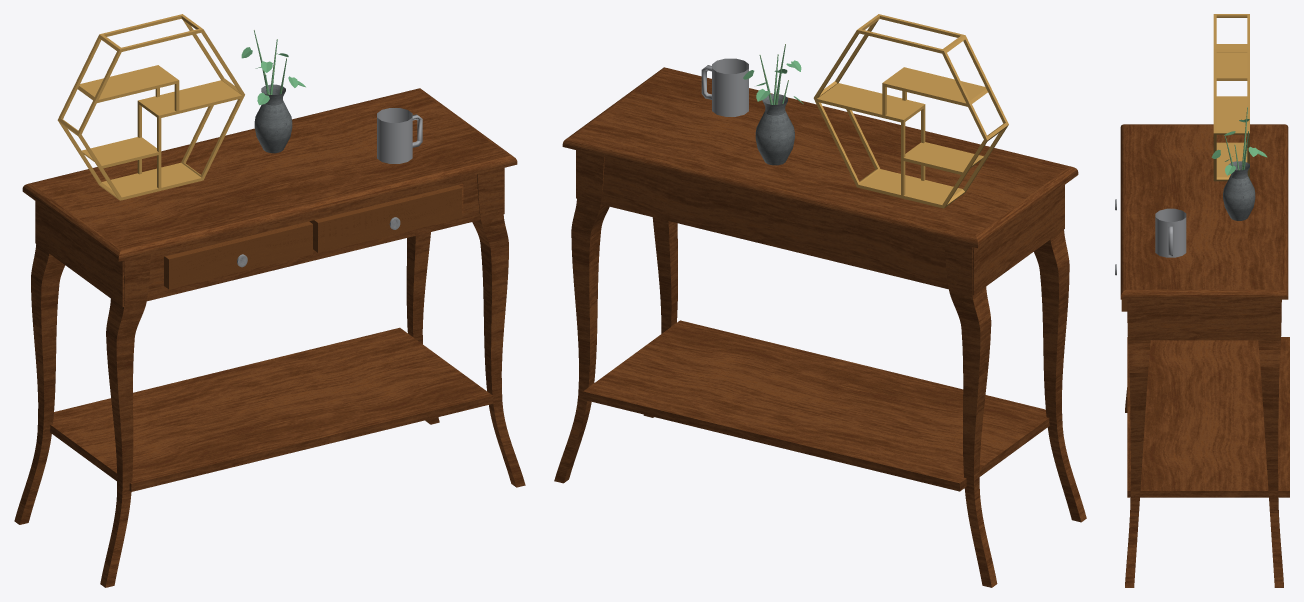
File: 桌子（化妆间）.glb
The picture shows the model from 3 angles, left to right: view 1: azimuth 30°, elevation 25°; view 2: azimuth 150°, elevation 25°; view 3: azimuth 270°, elevation 25°; orthographic projection. The views are drawn at different scales.
Parts seen in each view (by area): view 1: instance_1_14, instance_4_47, group_0_3, instance_2_23, instance_2.001_24, instance_2.002_25, group_2.001_10, group_2_9, group_0.001_4, instance_2.003_26, SketchUp.001_62, instance_28_41; view 2: instance_1_14, instance_4_47, group_0_3, instance_2.002_25, instance_2.003_26, instance_2_23, group_0.001_4, instance_2.001_24, SketchUp.001_62, instance_27_39; view 3: instance_1_14, instance_4_47, instance_2.001_24, instance_2.003_26, group_0_3, group_0.001_4, SketchUp.001_62, instance_26_37, instance_29_43.
Part boxes in pixels (box(x1,y1,x2,y2)): instance_1_14: box(22, 88, 517, 306); instance_4_47: box(50, 327, 493, 491); group_0_3: box(60, 19, 241, 197); instance_2_23: box(100, 254, 150, 587); instance_2.001_24: box(472, 168, 525, 487); instance_2.002_25: box(14, 244, 65, 524); group_2.001_10: box(309, 185, 462, 252); group_2_9: box(164, 221, 312, 289); group_0.001_4: box(57, 14, 244, 200); instance_2.003_26: box(406, 232, 439, 424); SketchUp.001_62: box(377, 108, 412, 163); instance_28_41: box(257, 94, 282, 153); instance_1_14: box(562, 67, 1078, 295); instance_4_47: box(583, 320, 1049, 491); group_0_3: box(817, 20, 1005, 204); instance_2.002_25: box(944, 240, 997, 587); instance_2.003_26: box(554, 150, 609, 483); instance_2_23: box(1034, 230, 1086, 522); group_0.001_4: box(813, 14, 1008, 208); instance_2.001_24: box(643, 217, 677, 417); SketchUp.001_62: box(712, 58, 748, 116); instance_27_39: box(765, 103, 791, 165); instance_1_14: box(1120, 124, 1288, 340); instance_4_47: box(1127, 337, 1289, 497); instance_2.001_24: box(1125, 299, 1150, 587); instance_2.003_26: box(1258, 299, 1283, 587); group_0_3: box(1216, 17, 1247, 179); group_0.001_4: box(1213, 14, 1249, 181); SketchUp.001_62: box(1155, 208, 1186, 257); instance_26_37: box(1239, 166, 1255, 220); instance_29_43: box(1223, 170, 1239, 220).
Size of the model in its own units: 1.16 by 1.28 by 0.4794.
12 materials, 5 textured.
